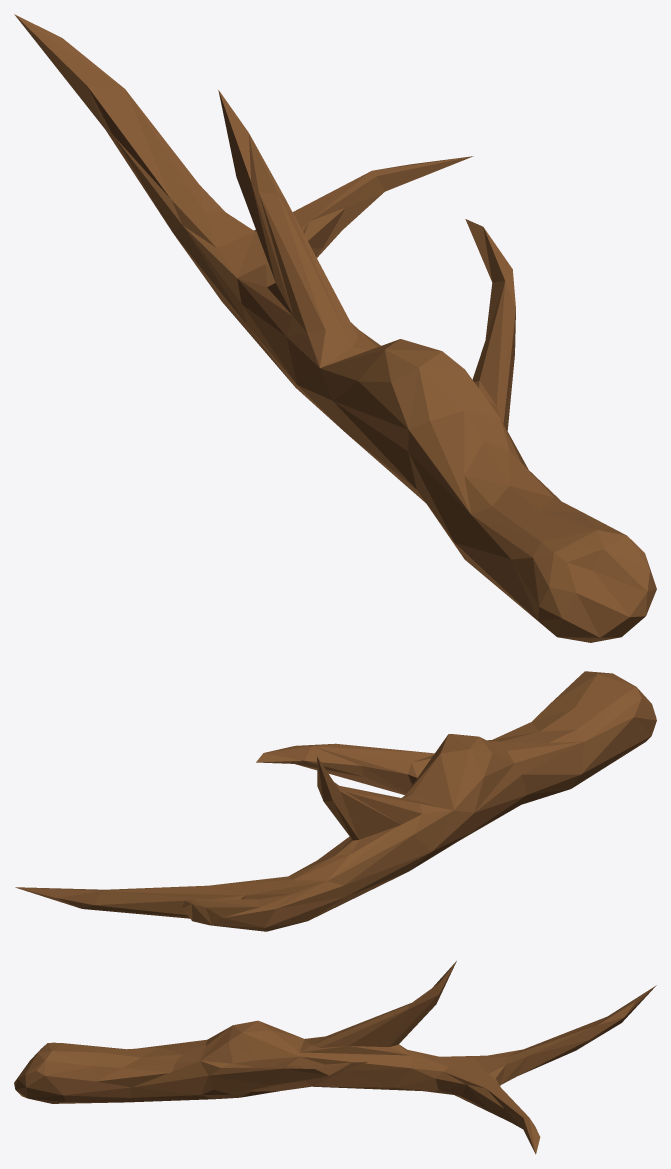
The model's file is branch.fbx.
The picture shows the model from 3 angles, top to bottom: view 1: azimuth 30°, elevation 25°; view 2: azimuth 150°, elevation 25°; view 3: azimuth 270°, elevation 25°; orthographic projection. The views are drawn at different scales.
Parts seen in each view (by area): view 1: branch; view 2: branch; view 3: branch.
Part boxes in pixels (left/top/right/bottom): branch: left=14, top=14, right=656, bottom=642; branch: left=15, top=671, right=656, bottom=931; branch: left=14, top=961, right=656, bottom=1154.
Bounding box in the file's own units: 341 × 213 × 892.
